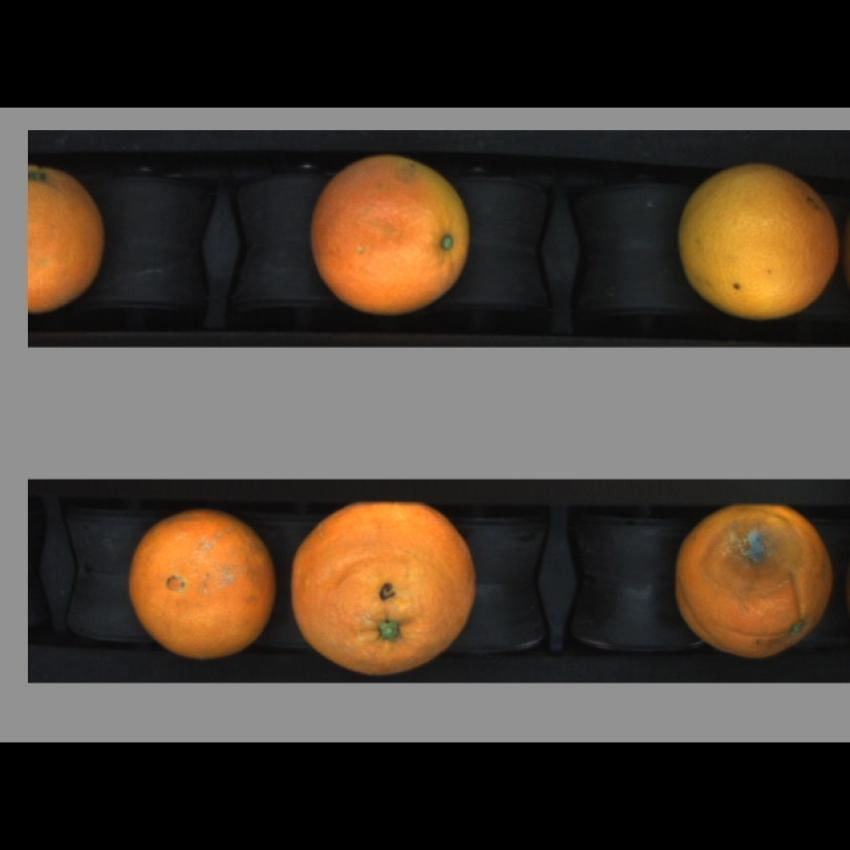Buen estado: (674, 165, 839, 320)
Mal estado: (289, 504, 483, 673), (664, 501, 839, 660), (306, 153, 470, 309), (127, 507, 279, 657), (30, 161, 104, 316)
